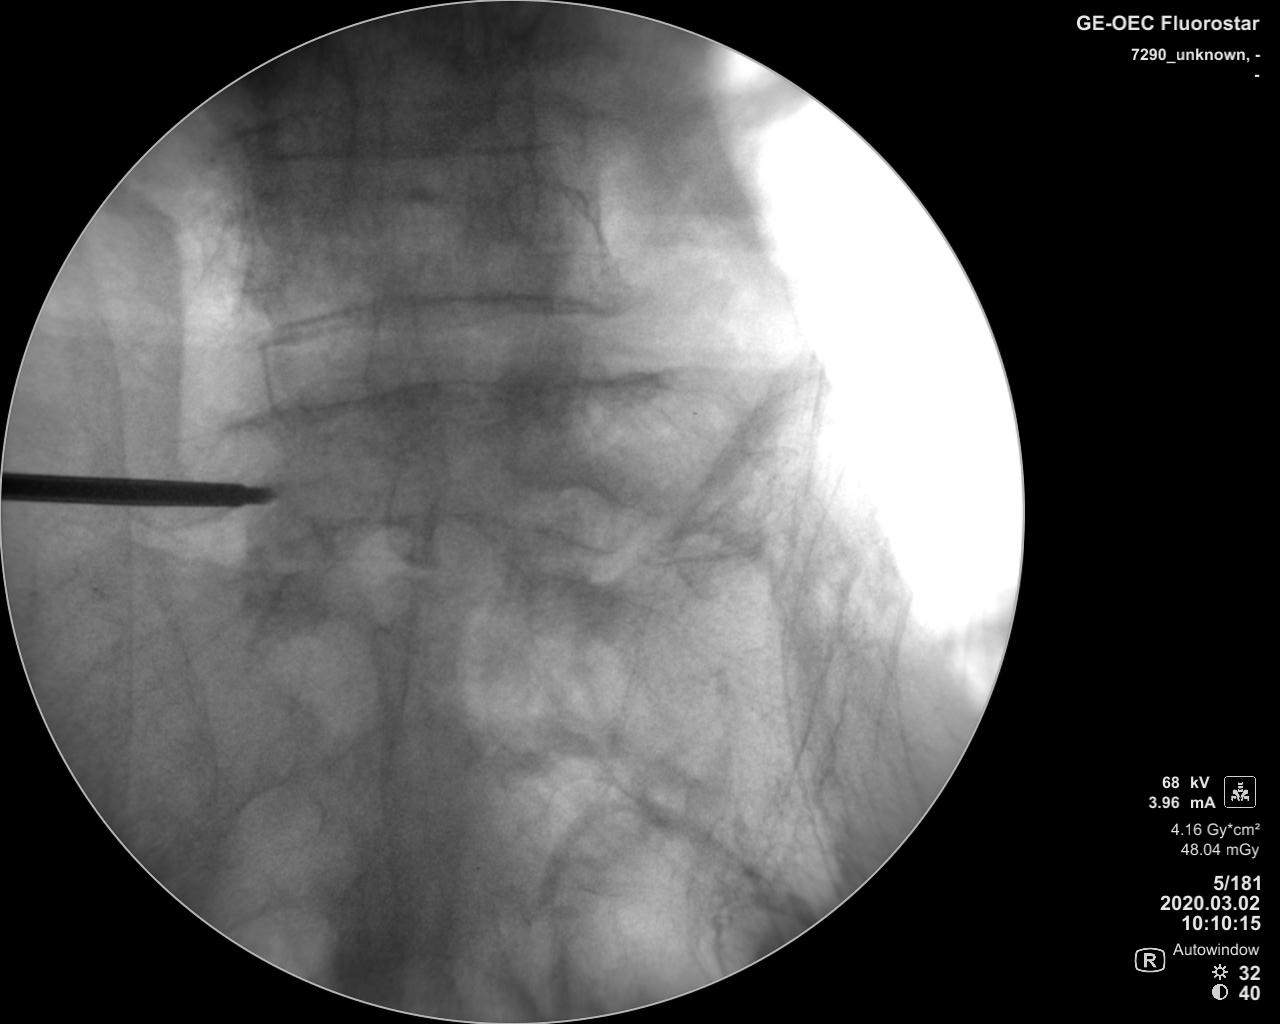eyes: (498, 177, 589, 258), (239, 184, 308, 273)
line: (225, 365, 683, 424), (273, 505, 619, 556), (248, 292, 639, 335), (248, 127, 566, 163)
nose: (363, 263, 437, 424), (382, 442, 438, 569)
